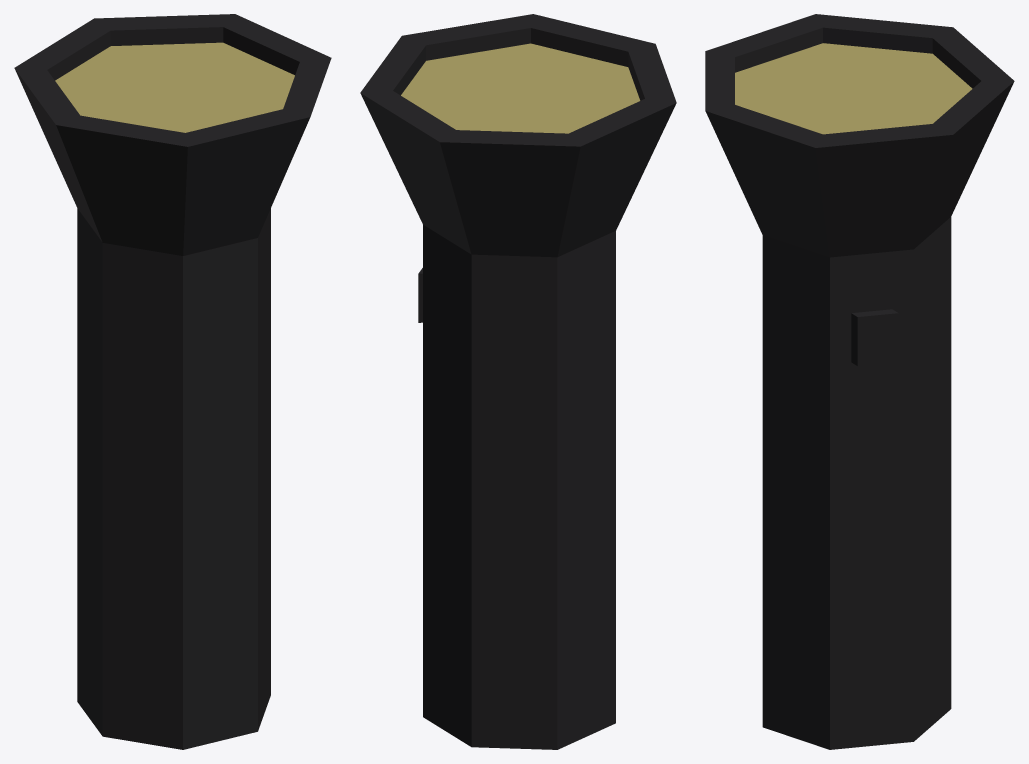
File: Torch.fbx
3 views of the same model, side by side, from view 1: azimuth 30°, elevation 25°; view 2: azimuth 150°, elevation 25°; view 3: azimuth 270°, elevation 25° (orthographic).
Parts seen in each view (by area): view 1: Cylinder; view 2: Cylinder; view 3: Cylinder.
Part boxes in pixels (<box>): Cylinder: <box>14,14,331,749</box>; Cylinder: <box>360,14,676,749</box>; Cylinder: <box>705,14,1014,749</box>.
Bounding box in the file's own units: 86.06 × 193 × 88.28.
